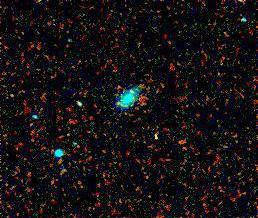star: (170, 129, 200, 159)
